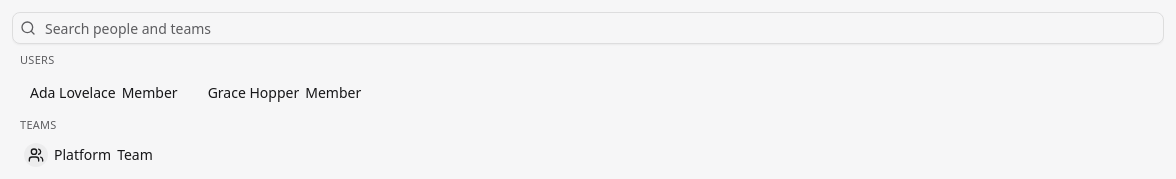
Test case: PrincipalPickerList (#107) › shows an empty message when a search matches nothing
Type "nobody" into the field labelled "Search people and teams" at {"x": 588, "y": 28}, box [12,12,1164,44]
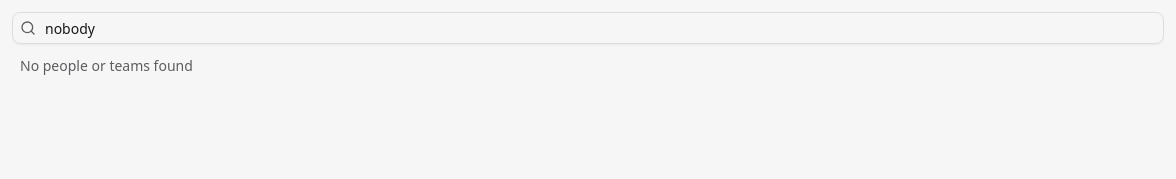
Expected: the text "No people or teams found" is shown, [20,56,193,75]
